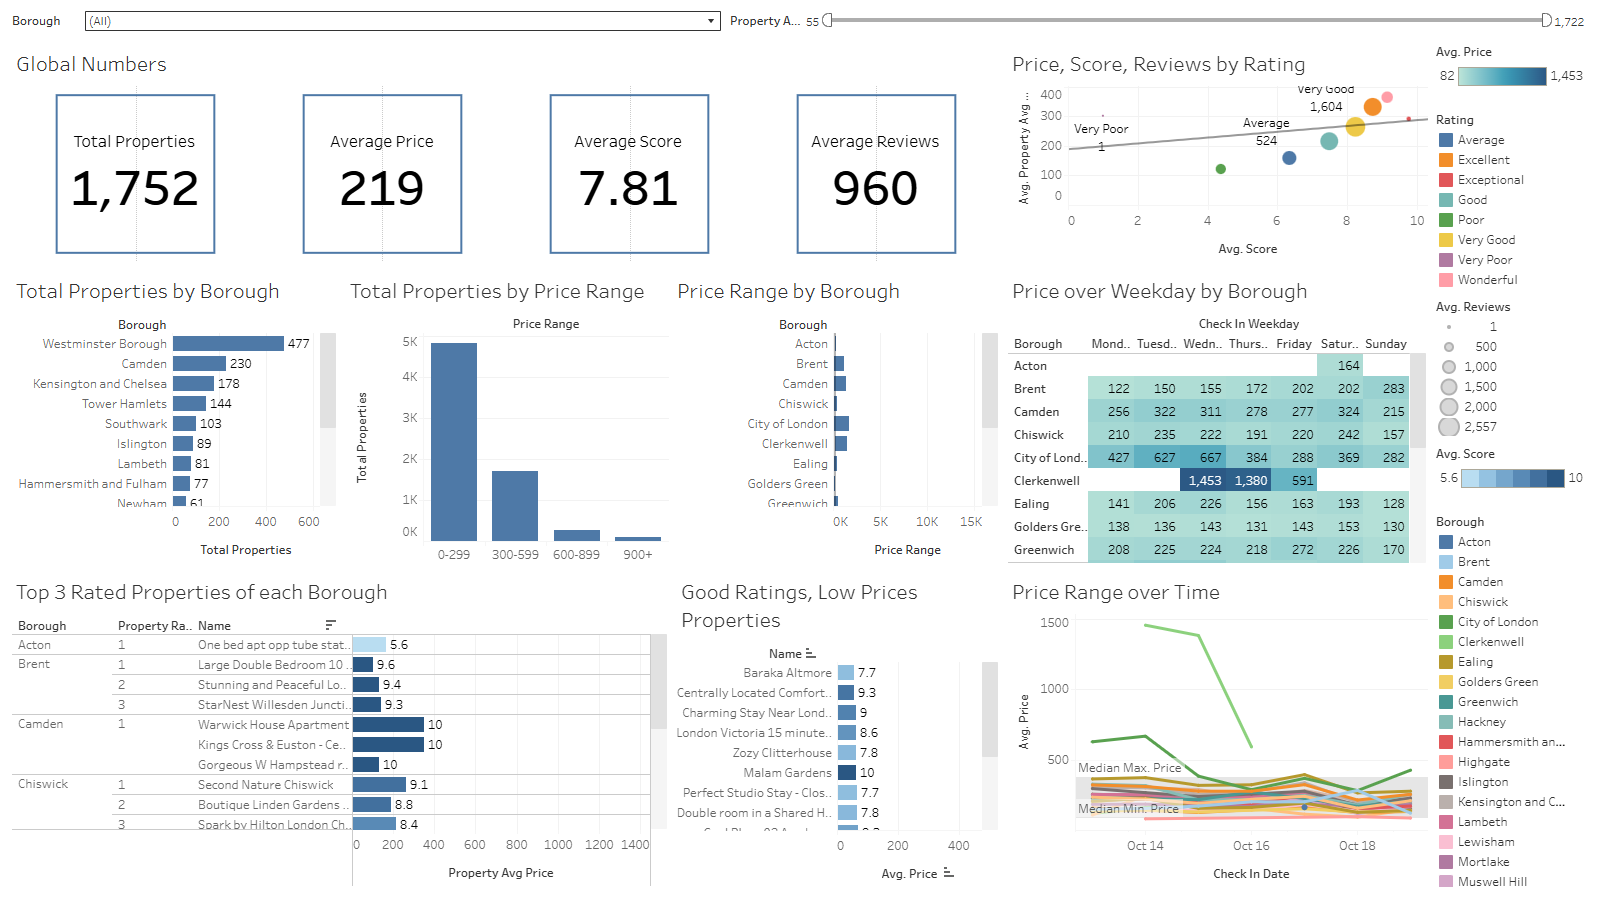

The page's visual inventory and layout, read from the dashboard file:
{"tool":"tableau","page":{"name":"Dashboard","canvas":[1600,900],"ordinal":0},"visuals":[{"type":"filter","title":"Total Properties by Borough","param":"[federated.1qjmh0y1p338zv11euz4h0nnakag].[none:borough:nk]","box":[8,8,718,32]},{"type":"filter","title":"Total Properties by Price Range","param":"[federated.1qjmh0y1p338zv11euz4h0nnakag].[none:Calculation_1313142222336007:qk]","box":[726,8,866,32]},{"type":"worksheet","title":"Global Numbers","mark":"Shape","cols":["Calculation_0960198917488646","Calculation_0960198917521420","Calculation_0960198917496840","Calculation_0960198917513226"],"box":[8,40,996,227]},{"type":"worksheet","title":"Price, Score, Reviews by Rating","mark":"Shape","rows":["Calculation_1313142222336007"],"cols":["score"],"box":[1004,40,428,227.5]},{"type":"legend","title":"Price over Weekday by Borough","param":"[federated.1qjmh0y1p338zv11euz4h0nnakag].[avg:price:qk]","box":[1432,40,160,68]},{"type":"legend","title":"Price, Score, Reviews by Rating","param":"[federated.1qjmh0y1p338zv11euz4h0nnakag].[none:rating:nk]","box":[1432,108,160,187]},{"type":"worksheet","title":"Total Properties by Borough","mark":"Automatic","rows":["borough"],"cols":["property_id"],"box":[8,267.5,333.5,300.7]},{"type":"worksheet","title":"Total Properties by Price Range","mark":"Bar","rows":["property_id"],"cols":["Calculation_1313142182895619"],"box":[341.5,267.5,331.2,300.7]},{"type":"worksheet","title":"Price Range by Borough","mark":"GanttBar","rows":["borough"],"cols":["price"],"box":[672.8,267.5,331.2,300.7]},{"type":"worksheet","title":"Price over Weekday by Borough","mark":"Square","rows":["borough"],"cols":["check_in_weekday"],"box":[1004,267.5,428,300.7]},{"type":"legend","title":"Price, Score, Reviews by Rating","param":"[federated.1qjmh0y1p338zv11euz4h0nnakag].[avg:reviews:qk]","box":[1432,295,160,147]},{"type":"legend","title":"Top 3 Rated Properties of each Borough","param":"[federated.1qjmh0y1p338zv11euz4h0nnakag].[avg:score:qk]","box":[1432,442,160,68]},{"type":"legend","title":"Price Range over Time","param":"[federated.1qjmh0y1p338zv11euz4h0nnakag].[none:borough:nk]","box":[1432,510,160,382]},{"type":"worksheet","title":"Top 3 Rated Properties of each Borough","mark":"Automatic","rows":["borough","name"],"cols":["Calculation_1313142222336007"],"box":[8,568.2,665,323.8]},{"type":"worksheet","title":"Good Ratings, Low Prices Properties","mark":"Bar","rows":["name"],"cols":["price"],"box":[673,568.2,331,323.8]},{"type":"worksheet","title":"Price Range over Time","mark":"Automatic","rows":["price"],"cols":["check_in_date"],"box":[1004,568.2,428,323.8]}]}

Visuals, with their boxes in screenshot pixels (x1, y1, x2, y2), scaled from the page's 1600x900 canvas onto the 1618x902 screenshot:
"Total Properties by Borough" filter: {"x1": 8, "y1": 8, "x2": 734, "y2": 40}
"Total Properties by Price Range" filter: {"x1": 734, "y1": 8, "x2": 1610, "y2": 40}
"Global Numbers" worksheet (Shape marks): {"x1": 8, "y1": 40, "x2": 1015, "y2": 268}
"Price, Score, Reviews by Rating" worksheet (Shape marks): {"x1": 1015, "y1": 40, "x2": 1448, "y2": 268}
"Price over Weekday by Borough" legend: {"x1": 1448, "y1": 40, "x2": 1610, "y2": 108}
"Price, Score, Reviews by Rating" legend: {"x1": 1448, "y1": 108, "x2": 1610, "y2": 296}
"Total Properties by Borough" worksheet: {"x1": 8, "y1": 268, "x2": 345, "y2": 569}
"Total Properties by Price Range" worksheet (Bar marks): {"x1": 345, "y1": 268, "x2": 680, "y2": 569}
"Price Range by Borough" worksheet (GanttBar marks): {"x1": 680, "y1": 268, "x2": 1015, "y2": 569}
"Price over Weekday by Borough" worksheet (Square marks): {"x1": 1015, "y1": 268, "x2": 1448, "y2": 569}
"Price, Score, Reviews by Rating" legend: {"x1": 1448, "y1": 296, "x2": 1610, "y2": 443}
"Top 3 Rated Properties of each Borough" legend: {"x1": 1448, "y1": 443, "x2": 1610, "y2": 511}
"Price Range over Time" legend: {"x1": 1448, "y1": 511, "x2": 1610, "y2": 894}
"Top 3 Rated Properties of each Borough" worksheet: {"x1": 8, "y1": 569, "x2": 681, "y2": 894}
"Good Ratings, Low Prices Properties" worksheet (Bar marks): {"x1": 681, "y1": 569, "x2": 1015, "y2": 894}
"Price Range over Time" worksheet: {"x1": 1015, "y1": 569, "x2": 1448, "y2": 894}
